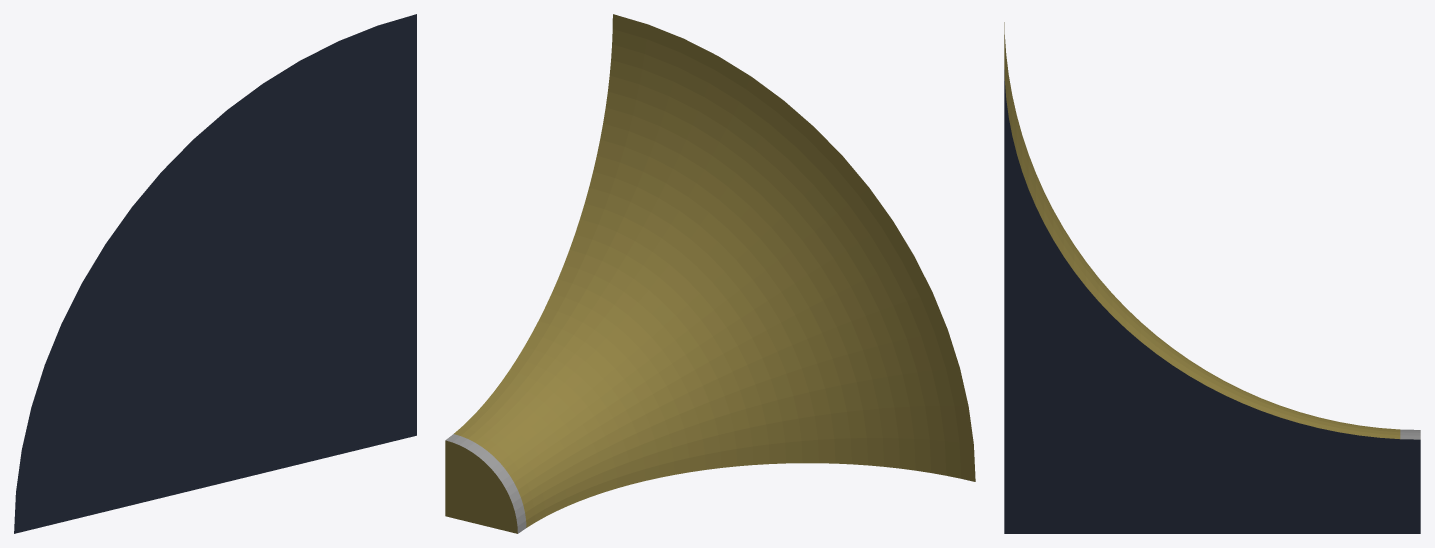
File: Bowl Corner Outside.fbx
The picture shows the model from 3 angles, left to right: view 1: azimuth 30°, elevation 25°; view 2: azimuth 150°, elevation 25°; view 3: azimuth 270°, elevation 25°; orthographic projection. The views are drawn at different scales.
Parts seen in each view (by area): view 1: Bowl Corner Outside; view 2: Bowl Corner Outside; view 3: Bowl Corner Outside.
Boxes of the visible parts, x1,y1,x2,y2 form: Bowl Corner Outside: (14, 14, 416, 533); Bowl Corner Outside: (445, 14, 975, 533); Bowl Corner Outside: (1004, 22, 1420, 533).
Bounding box in the file's own units: 1000 × 1000 × 800.
